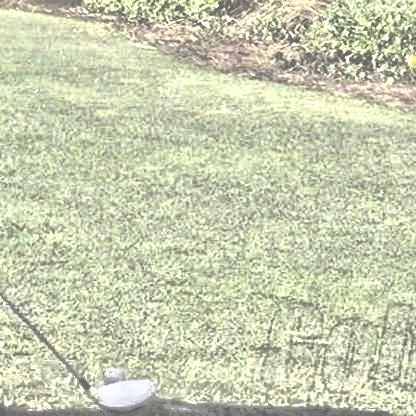golfball: (98, 362, 123, 384)
